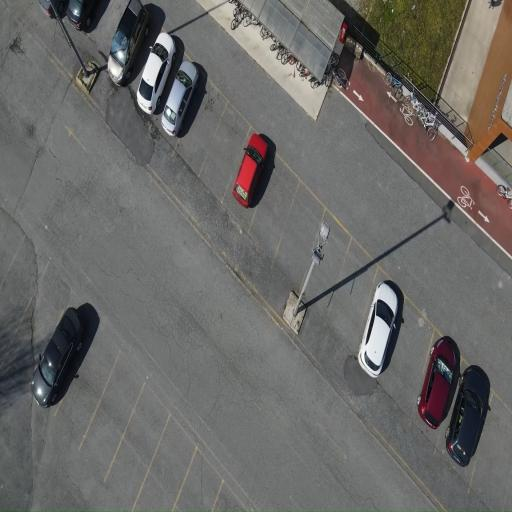harvester: (418, 110, 439, 140), (403, 92, 423, 115), (385, 73, 402, 99), (310, 70, 333, 88), (458, 186, 474, 209), (497, 185, 511, 209), (334, 68, 349, 88), (234, 6, 251, 22), (243, 15, 260, 27), (276, 44, 287, 60), (328, 53, 339, 68), (260, 27, 272, 40), (231, 19, 241, 30), (271, 42, 283, 51), (300, 68, 310, 78), (229, 0, 240, 6)
person: (32, 308, 83, 407), (446, 366, 490, 466), (417, 336, 458, 429), (359, 283, 398, 377), (108, 0, 149, 85), (137, 33, 175, 113), (162, 61, 198, 136), (233, 134, 267, 207), (67, 0, 97, 29), (39, 0, 55, 18)
